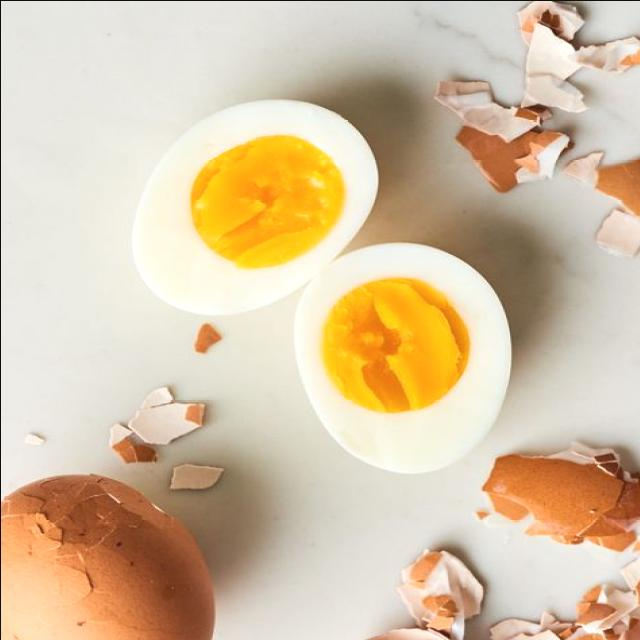telur rebus: (128, 96, 379, 314), (290, 239, 513, 474)
